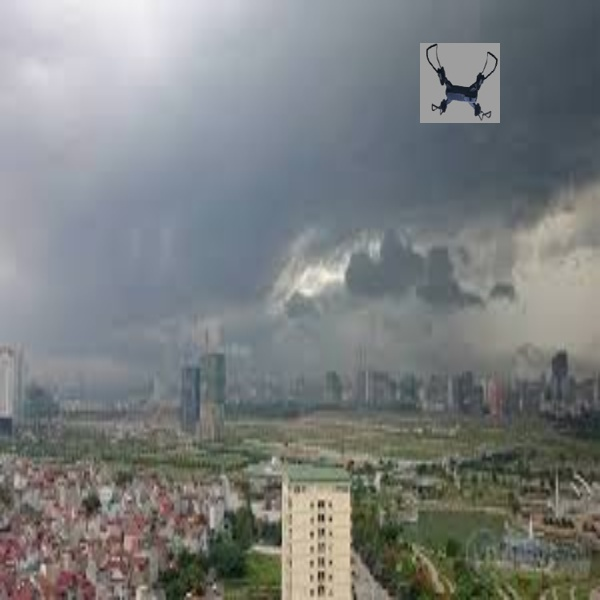drone: (418, 42, 505, 123)
